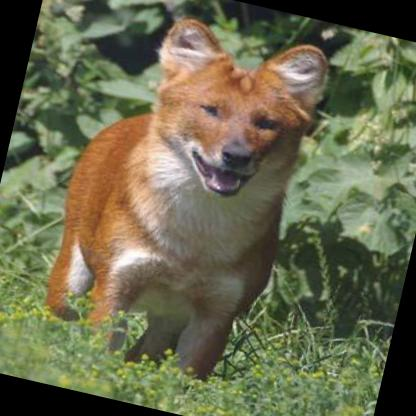dhole: (28, 0, 336, 404)
